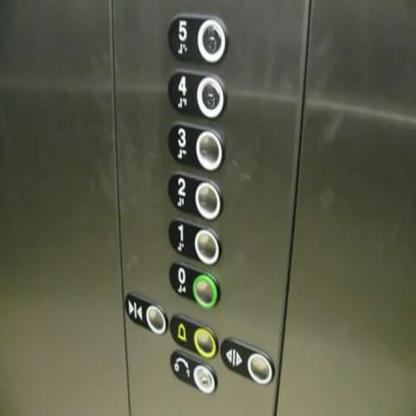0: (164, 262, 223, 308)
1: (166, 218, 222, 266)
2: (165, 170, 226, 221)
3: (164, 118, 227, 172)
4: (164, 67, 229, 122)
5: (165, 14, 228, 64)
alarm: (166, 311, 216, 361)
close: (124, 288, 167, 333)
open: (220, 335, 278, 386)
unknown: (167, 346, 218, 396)
